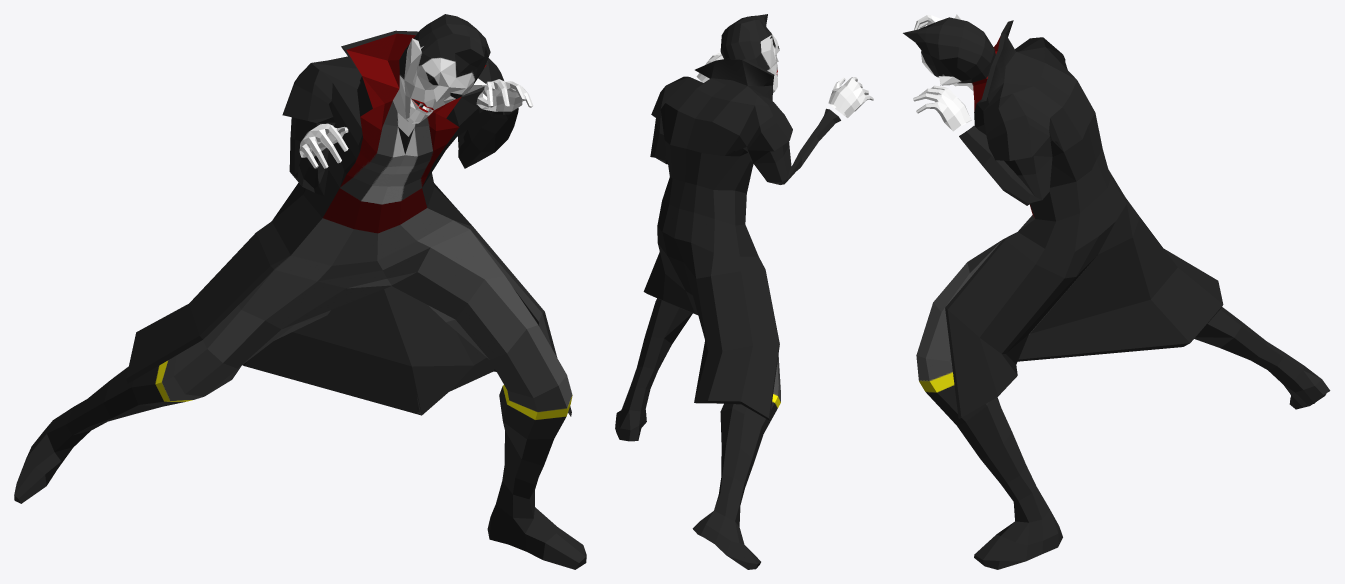
The model's file is VampireAttack(42).obj.
3 renders of one model, left to right at view 1: azimuth 30°, elevation 25°; view 2: azimuth 150°, elevation 25°; view 3: azimuth 270°, elevation 25°, orthographic. The views are drawn at different scales.
Parts seen in each view (by area): view 1: Plane002; view 2: Plane002; view 3: Plane002.
Boxes of the visible parts, bbox=[...] form: Plane002: bbox=[14, 14, 586, 569]; Plane002: bbox=[615, 14, 873, 569]; Plane002: bbox=[903, 14, 1330, 569].
Size of the model in its own units: 72.71 by 106 by 84.97.
